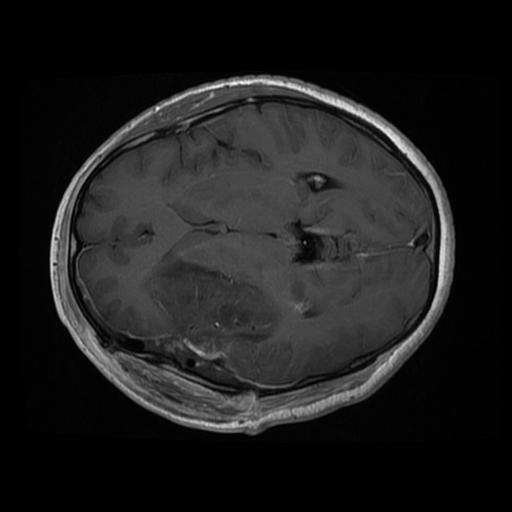glioma: (142, 258, 295, 388)
